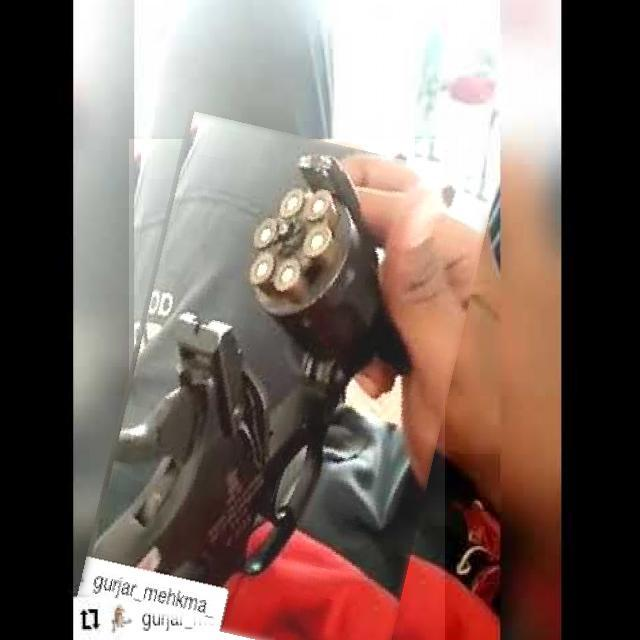handgun: (103, 124, 471, 640)
